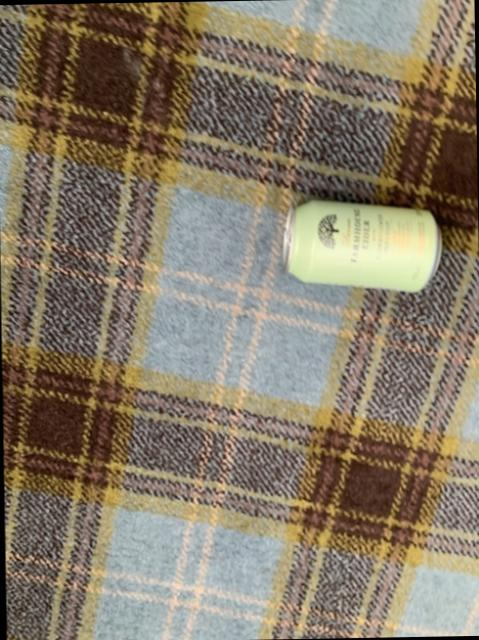metal: (284, 201, 441, 292)
